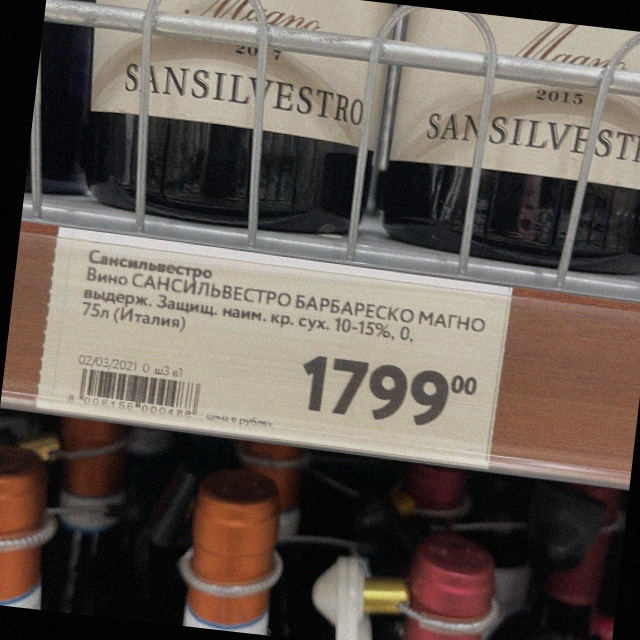barcode: (66, 367, 208, 424)
name: (75, 249, 488, 345)
price: (298, 351, 481, 431)
price_tag: (32, 228, 523, 473)
